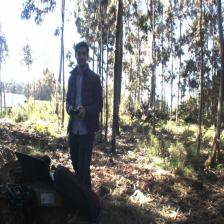trunktrack_idkeyframe: (110, 50, 122, 149)
